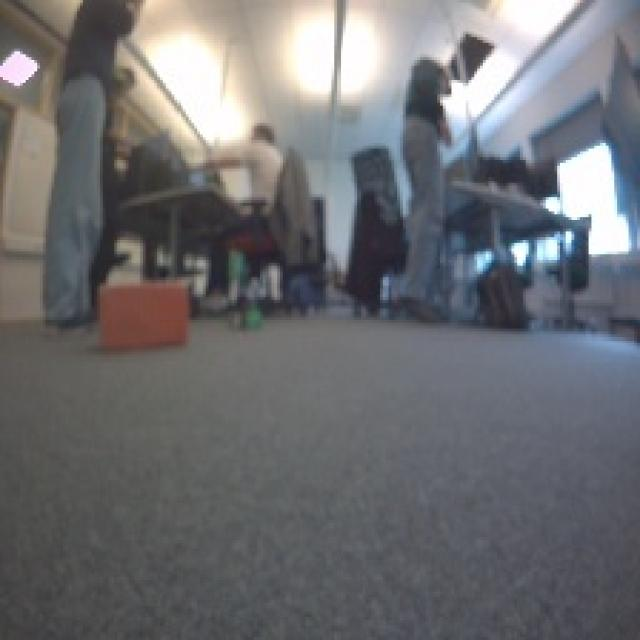robot: (225, 294, 266, 332)
target: (95, 277, 192, 352)
